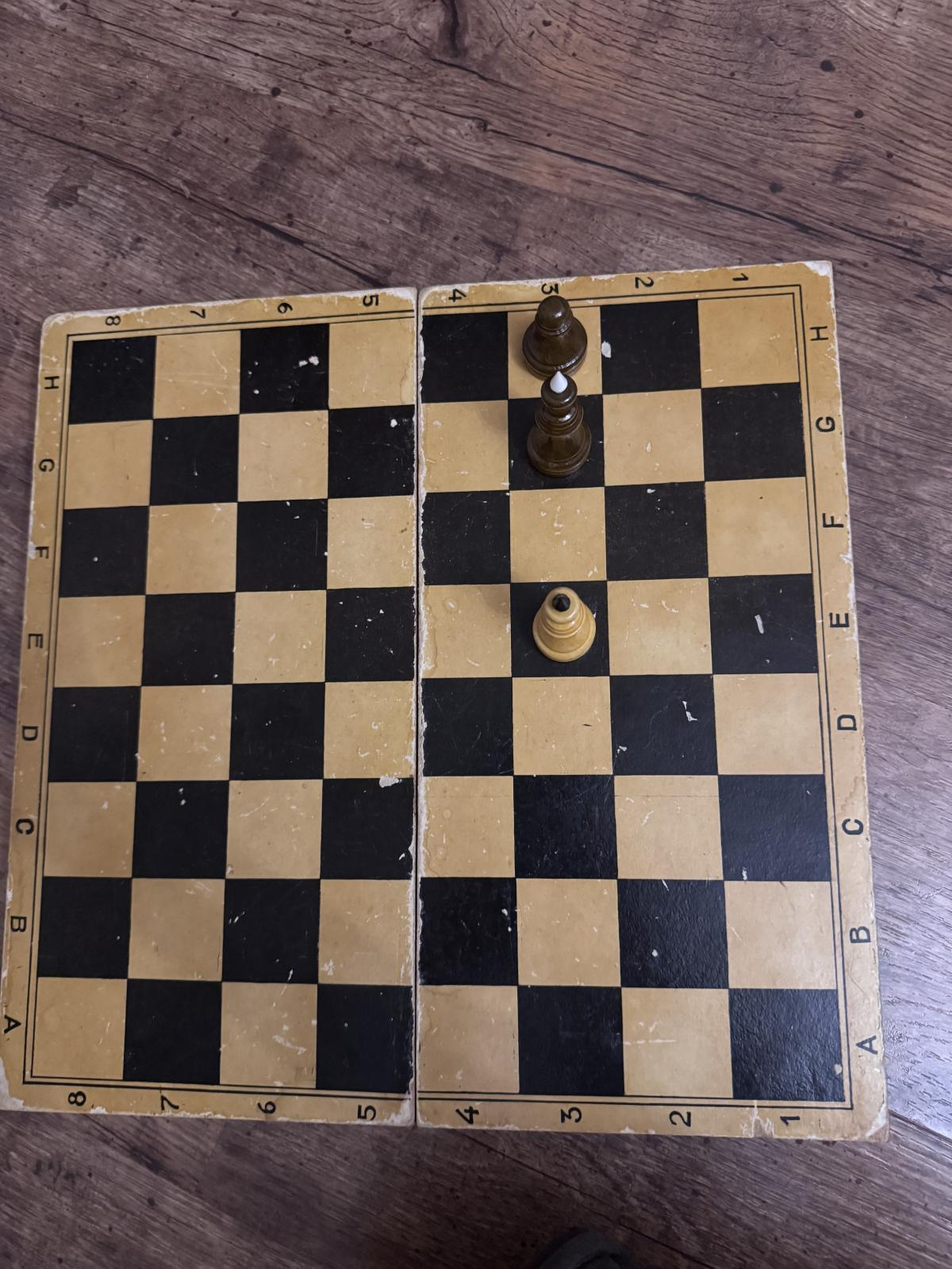Chess-Board: (31, 293, 844, 1102)
